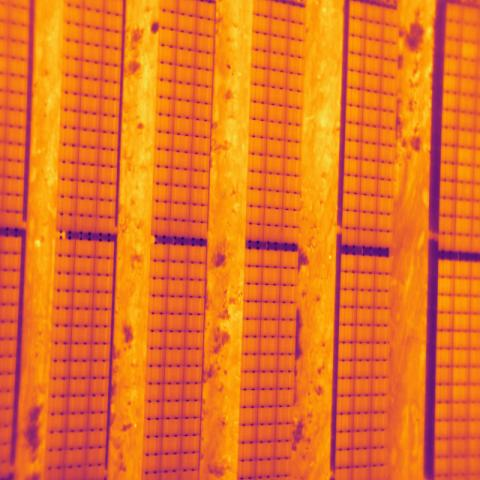fault: (462, 41, 478, 60)
